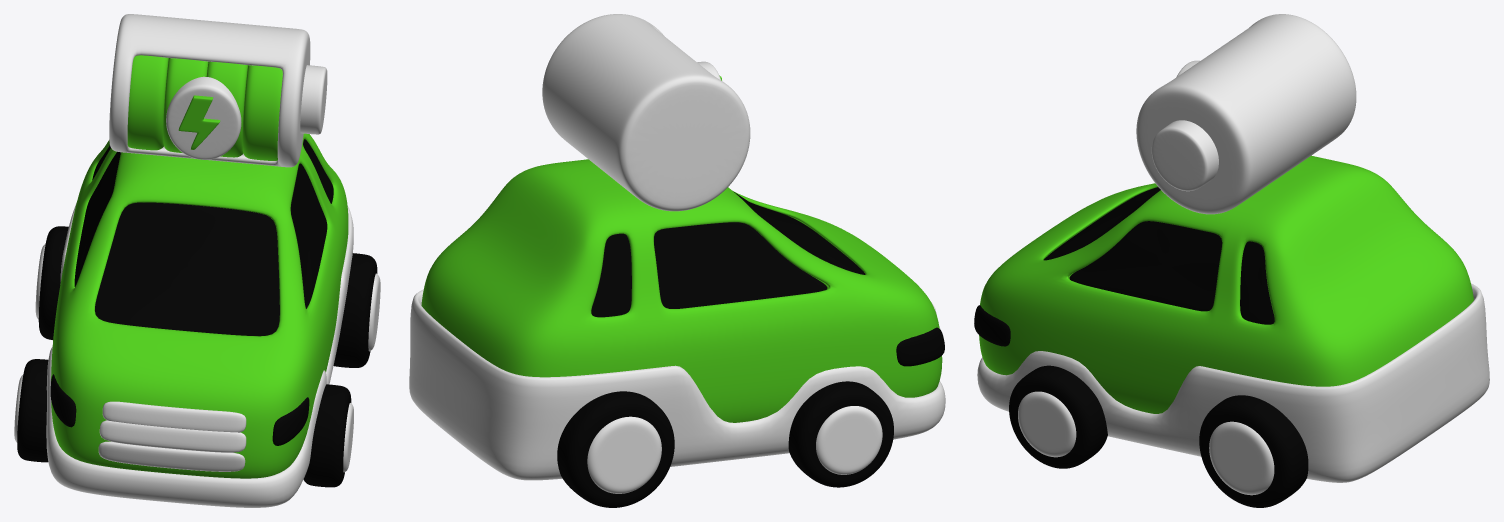
The model's file is Electric Car.glb.
The picture shows the model from 3 angles, left to right: view 1: azimuth 30°, elevation 25°; view 2: azimuth 150°, elevation 25°; view 3: azimuth 270°, elevation 25°; orthographic projection. The views are drawn at different scales.
Visible parts, largest first — view 1: Cube.084, Cube.043, Cylinder.071, Cube.086, Cylinder.077, Cube.085, Cylinder.073, Cylinder.076, Cylinder.063, Cylinder.065, Cube.088, Cube.087 (+10 smaller); view 2: Cube.084, Cube.086, Cylinder.071, Cube.043, Cylinder.069, Cylinder.067, Cylinder.070, Cylinder.068, Cube.090; view 3: Cube.084, Cube.086, Cylinder.071, Cube.043, Cylinder.065, Cylinder.063, Cylinder.072, Cylinder.066, Cylinder.064, Cube.090.
Boxes of the visible parts, box(x1,y1,x2,y2) form: Cube.084: box(51, 133, 348, 478); Cube.043: box(74, 139, 333, 336); Cylinder.071: box(109, 14, 310, 167); Cube.086: box(46, 203, 353, 507); Cylinder.077: box(166, 76, 241, 159); Cube.085: box(97, 239, 279, 313); Cylinder.073: box(242, 65, 282, 160); Cylinder.076: box(127, 55, 168, 150); Cylinder.063: box(303, 384, 351, 487); Cylinder.065: box(333, 253, 377, 367); Cube.088: box(99, 420, 246, 452); Cube.087: box(102, 401, 246, 432); Cube.084: box(421, 159, 942, 422); Cube.086: box(409, 289, 945, 480); Cylinder.071: box(542, 14, 750, 211); Cube.043: box(591, 191, 865, 317); Cylinder.069: box(557, 391, 674, 507); Cylinder.067: box(788, 381, 893, 487); Cylinder.070: box(587, 416, 661, 493); Cylinder.068: box(816, 406, 882, 474); Cube.090: box(896, 327, 944, 366); Cube.084: box(979, 155, 1473, 413); Cube.086: box(977, 283, 1489, 482); Cylinder.071: box(1136, 14, 1356, 214); Cube.043: box(1044, 187, 1274, 324); Cylinder.065: box(1199, 395, 1308, 507); Cylinder.063: box(1009, 365, 1107, 468); Cylinder.072: box(1151, 120, 1218, 191); Cylinder.066: box(1209, 421, 1274, 495); Cylinder.064: box(1018, 391, 1076, 457); Cube.090: box(974, 305, 1010, 346).
Size of the model in its own units: 5.74 by 5.43 by 6.26.
